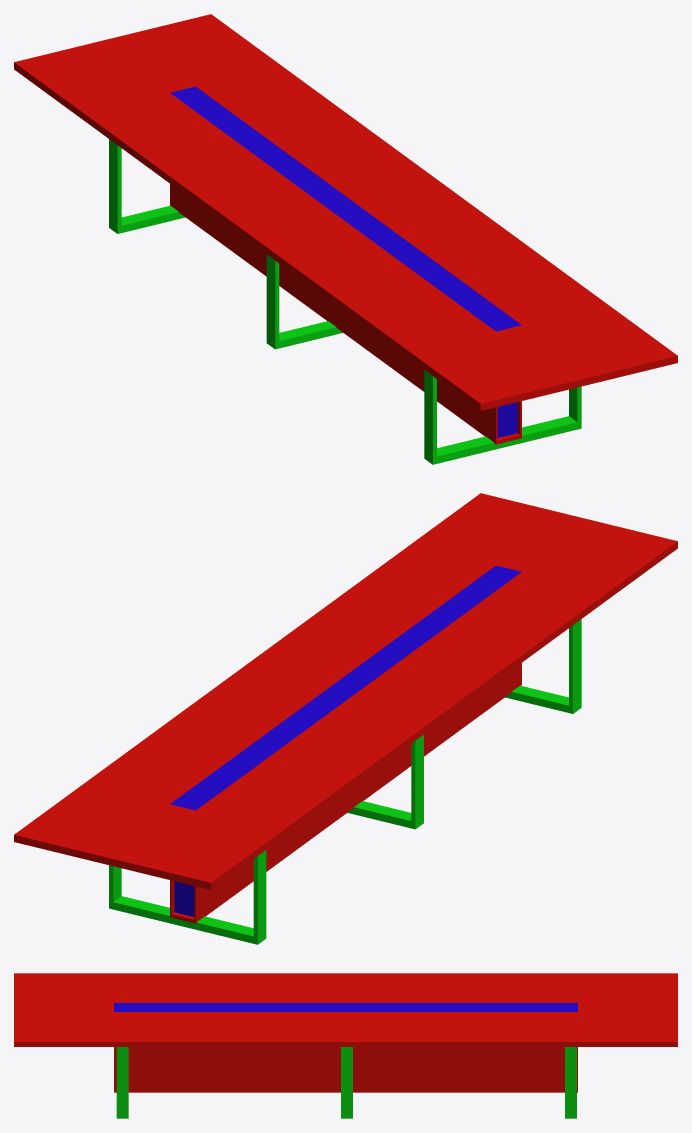
File: стол.fbx
3 views of the same model, one above another, from view 1: azimuth 30°, elevation 25°; view 2: azimuth 150°, elevation 25°; view 3: azimuth 270°, elevation 25° (orthographic). The views are drawn at different scales.
Parts seen in each view (by area): view 1: Cube.002; view 2: Cube.002; view 3: Cube.002.
Boxes of the visible parts, <box> form: Cube.002: <box>14,14,677,464</box>; Cube.002: <box>14,493,677,944</box>; Cube.002: <box>14,973,677,1118</box>.
Size of the model in its own units: 5.55 by 3.22 by 22.74.
